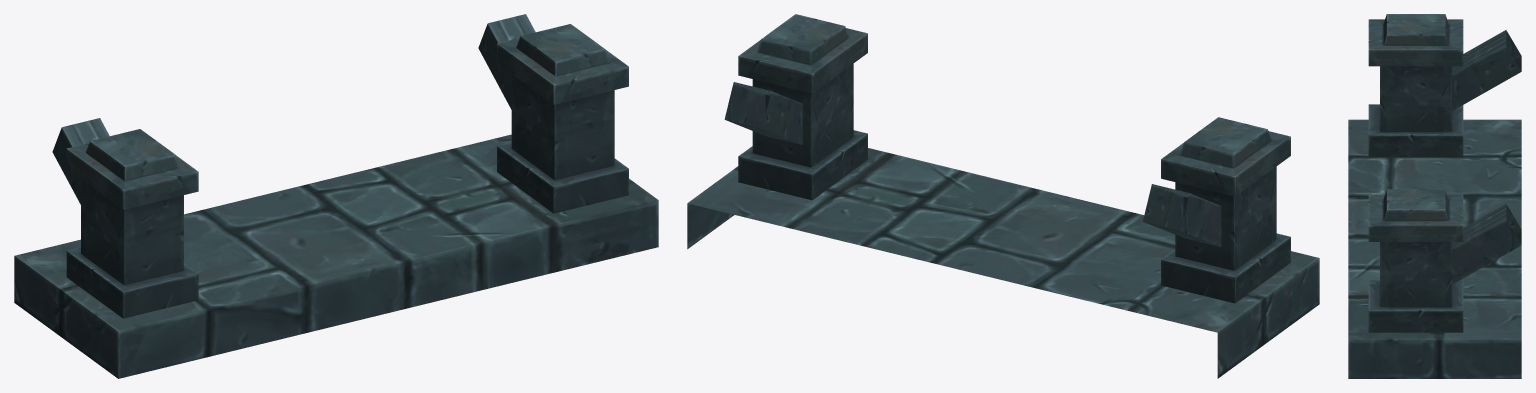
File: Stage_DiXiaCheng_LouTi03.FBX
The picture shows the model from 3 angles, left to right: view 1: azimuth 30°, elevation 25°; view 2: azimuth 150°, elevation 25°; view 3: azimuth 270°, elevation 25°; orthographic projection. The views are drawn at different scales.
Parts seen in each view (by area): view 1: Stage_DiXiaCheng_LouTi03; view 2: Stage_DiXiaCheng_LouTi03; view 3: Stage_DiXiaCheng_LouTi03.
Part boxes in pixels (bbox=[...]): Stage_DiXiaCheng_LouTi03: bbox=[14, 14, 658, 378]; Stage_DiXiaCheng_LouTi03: bbox=[687, 14, 1319, 378]; Stage_DiXiaCheng_LouTi03: bbox=[1348, 14, 1521, 378].
Bounding box in the file's own units: 600 × 200 × 200.
